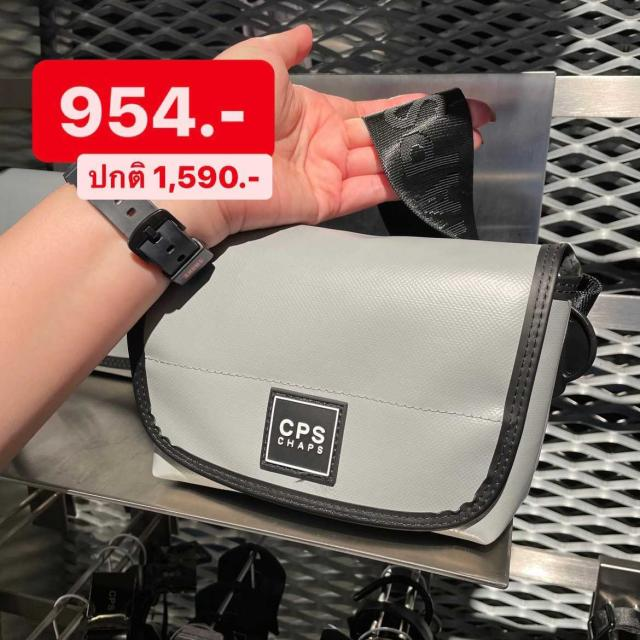Handbag: (107, 211, 596, 569)
